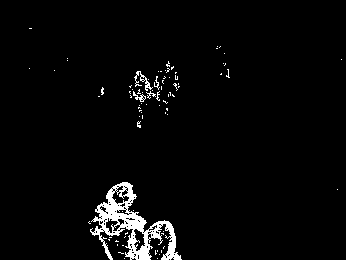person: (91, 180, 146, 260), (139, 217, 184, 260), (129, 68, 152, 130), (154, 60, 179, 117)
